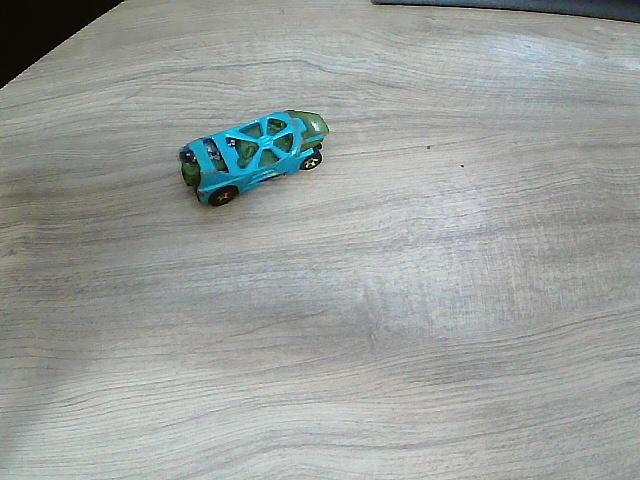Carro: (178, 111, 330, 207)
